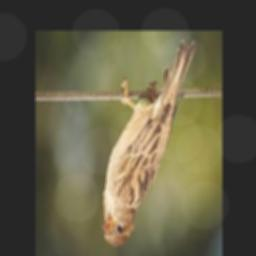Sparrow: (102, 39, 196, 247)
